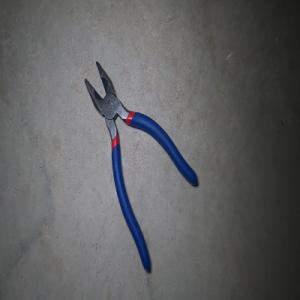Pliers: (84, 60, 198, 273)
